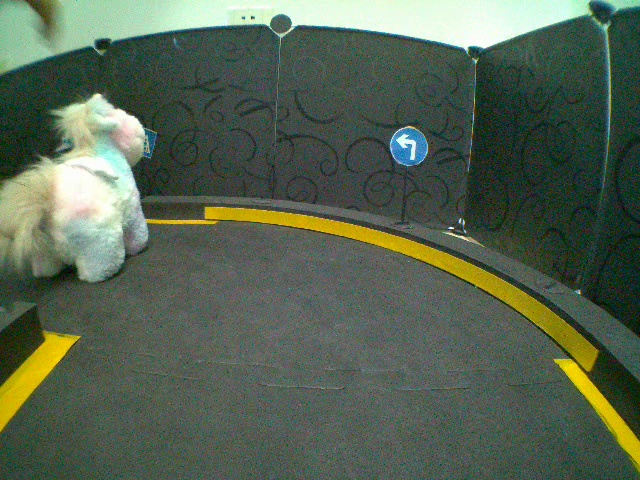unicorn: (1, 90, 152, 284)
